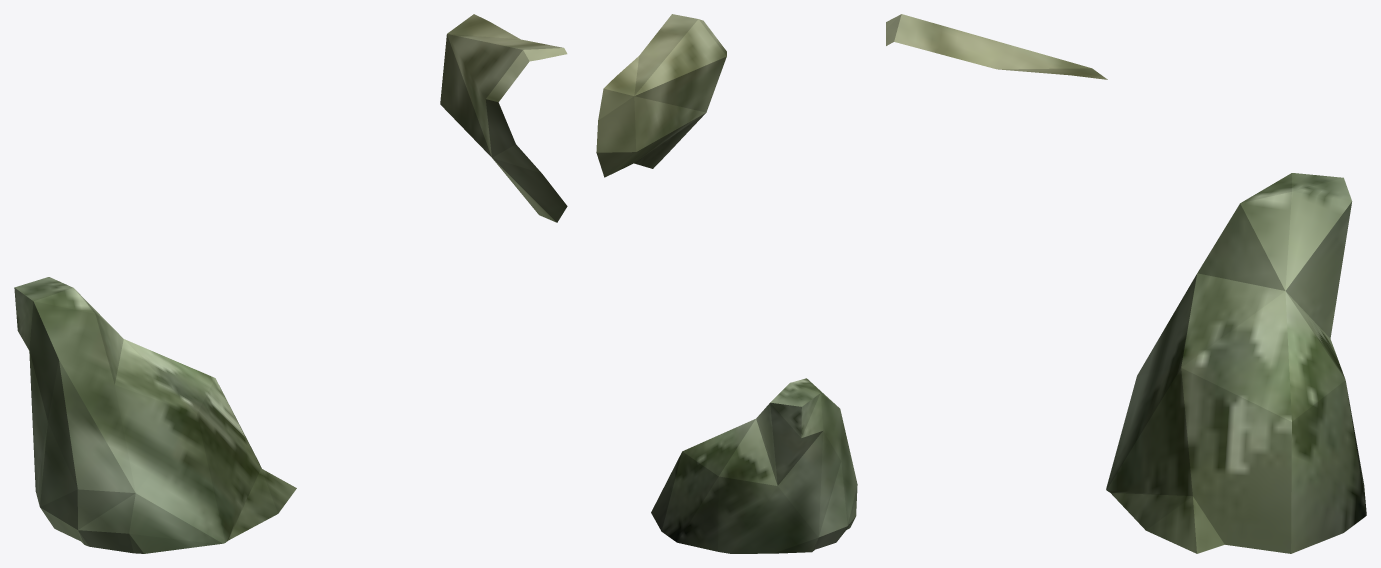
3 renders of one model, left to right at view 1: azimuth 30°, elevation 25°; view 2: azimuth 150°, elevation 25°; view 3: azimuth 270°, elevation 25°, orthographic. The views are drawn at different scales.
Size of the model in its own units: 0.8048 by 1.03 by 0.7477.
Materials: 1 (1 with a texture image).
